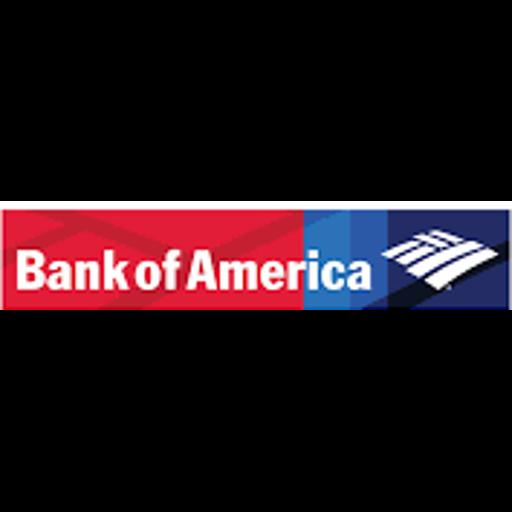Bank of America: (0, 201, 512, 310)
